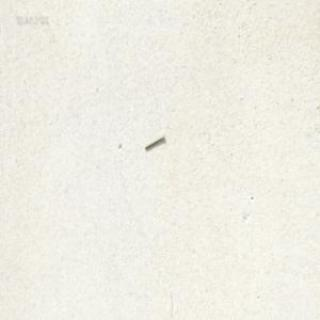Bolttrack_idkeyframe: (142, 132, 164, 150)
